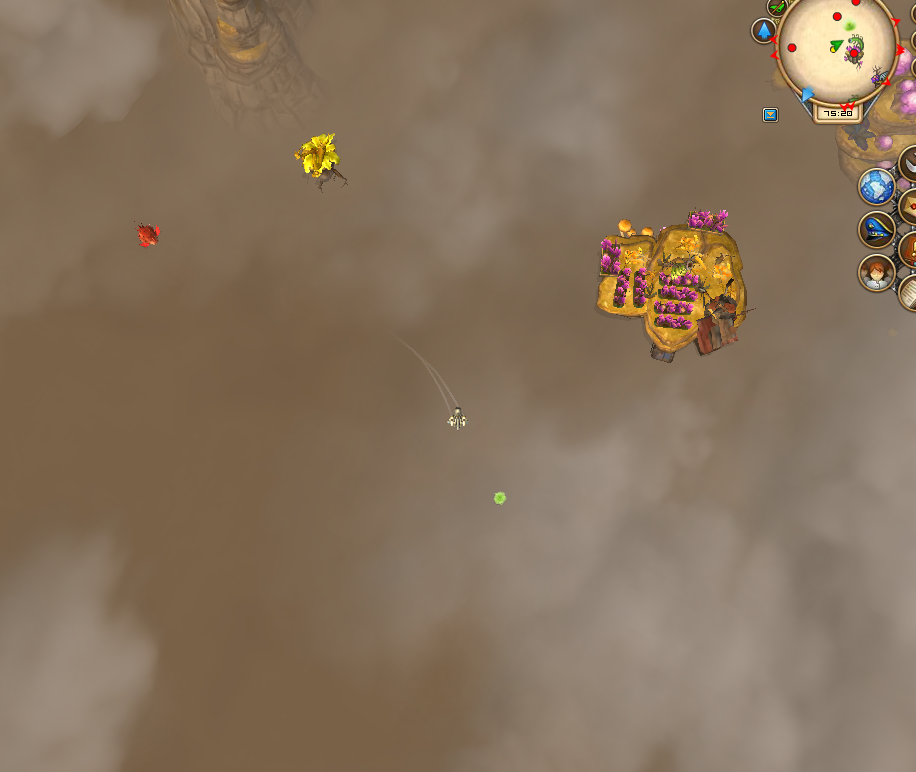dandelion-empty: (293, 129, 352, 188)
fluff: (486, 484, 513, 510)
